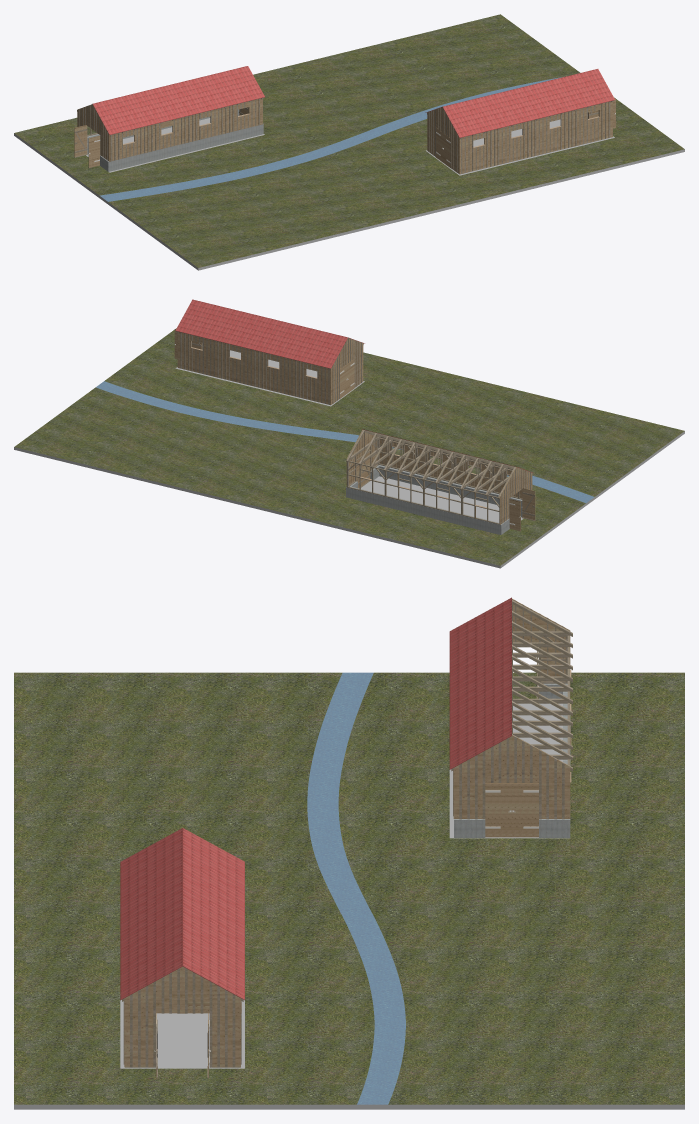
File: AR_Modell_Fischzucht.glb
3 views of the same model, one above another, from view 1: azimuth 30°, elevation 25°; view 2: azimuth 150°, elevation 25°; view 3: azimuth 270°, elevation 25° (orthographic). The views are drawn at different scales.
Parts seen in each view (by area): view 1: VisualSceneNode1.2821, VisualSceneNode1.2820, VisualSceneNode1.2039, VisualSceneNode1.324, VisualSceneNode1.2819, VisualSceneNode1.002, VisualSceneNode1.2723, VisualSceneNode1.2682; view 2: VisualSceneNode1.2820, VisualSceneNode1.2821, VisualSceneNode1.2038, VisualSceneNode1.2819, VisualSceneNode1.2682, VisualSceneNode1, VisualSceneNode1.002, VisualSceneNode1.2723; view 3: VisualSceneNode1.2820, VisualSceneNode1.2821, VisualSceneNode1.2819, VisualSceneNode1.2038, VisualSceneNode1.324, VisualSceneNode1.2039, VisualSceneNode1.2723, VisualSceneNode1.2682.
Part boxes in pixels (box(x1,y1,x2,y2)): VisualSceneNode1.2821: box(108, 97, 684, 270); VisualSceneNode1.2820: box(14, 14, 580, 197); VisualSceneNode1.2039: box(443, 69, 614, 137); VisualSceneNode1.324: box(92, 66, 264, 134); VisualSceneNode1.2819: box(99, 77, 562, 203); VisualSceneNode1.002: box(106, 125, 260, 171); VisualSceneNode1.2723: box(426, 119, 614, 175); VisualSceneNode1.2682: box(86, 118, 264, 172); VisualSceneNode1.2820: box(14, 387, 585, 568); VisualSceneNode1.2821: box(104, 328, 684, 499); VisualSceneNode1.2038: box(175, 299, 347, 368); VisualSceneNode1.2819: box(96, 381, 594, 505); VisualSceneNode1.2682: box(361, 476, 523, 522); VisualSceneNode1: box(346, 486, 503, 534); VisualSceneNode1.002: box(379, 465, 522, 506); VisualSceneNode1.2723: box(175, 350, 364, 406); VisualSceneNode1.2820: box(338, 672, 684, 1109); VisualSceneNode1.2821: box(14, 672, 374, 1109); VisualSceneNode1.2819: box(307, 672, 405, 1109); VisualSceneNode1.2038: box(182, 828, 244, 1000); VisualSceneNode1.324: box(449, 597, 511, 769); VisualSceneNode1.2039: box(120, 828, 182, 1000); VisualSceneNode1.2723: box(120, 1000, 244, 1068); VisualSceneNode1.2682: box(449, 703, 569, 838).
Size of the model in its own units: 38.16 by 4.44 by 25.05.
10 materials, 7 textured.
